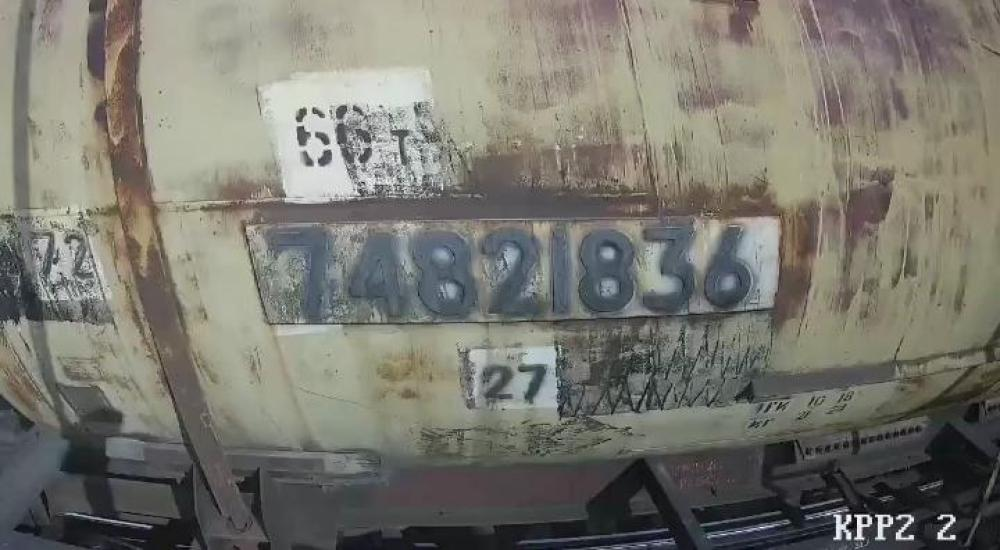Wagon-number: (258, 218, 757, 321)
